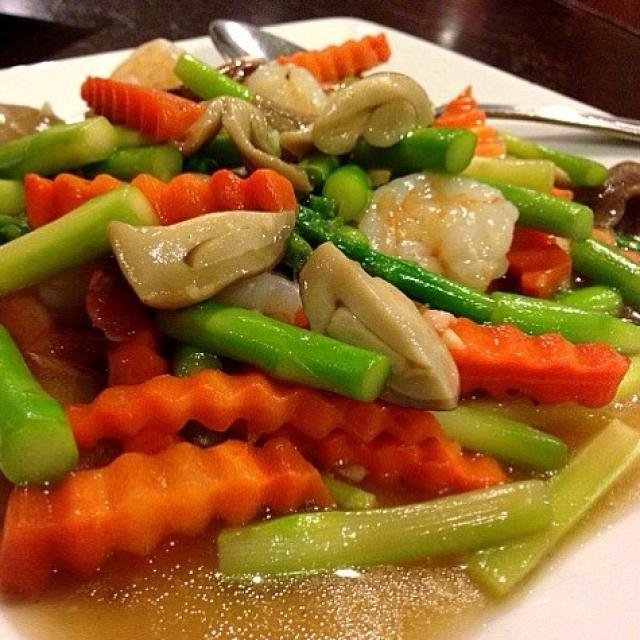蔬菜料理: (15, 31, 612, 605)
